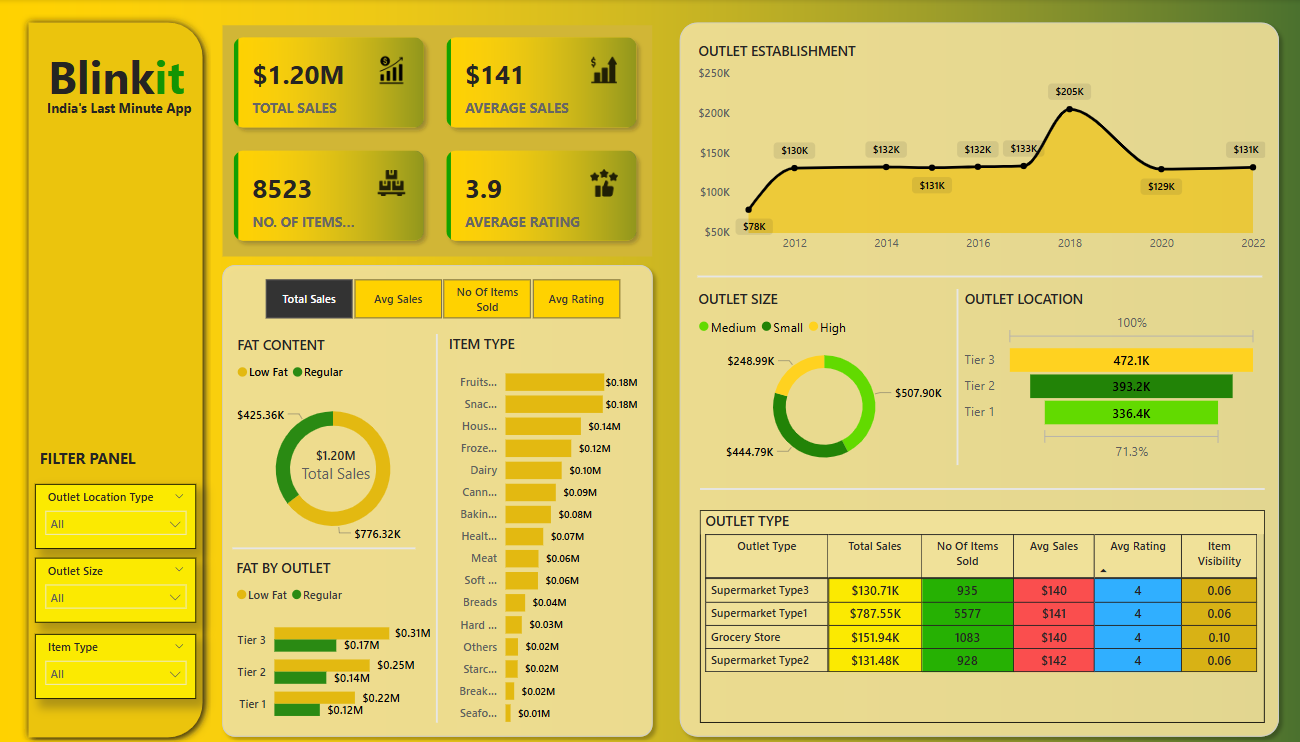

Layout of this report page (visuals, bound fields, positions):
{"tool":"powerbi","page":{"name":"Page 1","canvas":[1400,800],"ordinal":0},"visuals":[{"type":"shape","box":[229.2,276.1,479.9,524.1],"z":0},{"type":"shape","box":[21.6,15.4,205.1,784.8],"z":1000},{"type":"clusteredBarChart","title":"FAT BY OUTLET","fields":{"Y":["BlinkIT Grocery Data.Total Sales"],"Category":["BlinkIT Grocery Data.Outlet Location Type"],"Series":["BlinkIT Grocery Data.Item Fat Content"]},"box":[249.3,599.2,221.2,190.3],"z":2000},{"type":"slicer","fields":{"Values":["Metrics.Metrics"]},"box":[258.7,293.6,430.3,53.6],"z":3000},{"type":"donutChart","title":"FAT CONTENT","fields":{"Y":["BlinkIT Grocery Data.Total Sales"],"Category":["BlinkIT Grocery Data.Item Fat Content"]},"box":[249.3,360.6,213.1,238.6],"z":4000},{"type":"cardVisual","fields":{"Data":["BlinkIT Grocery Data.Total Sales","BlinkIT Grocery Data.Avg Sales","BlinkIT Grocery Data.No Of Items Sold","BlinkIT Grocery Data.Avg Rating"]},"box":[239,28,461,248],"z":5000},{"type":"cardVisual","fields":{"Data":["BlinkIT Grocery Data.Total Sales"]},"box":[305.6,461.1,109.9,76.4],"z":6000},{"type":"textbox","box":[40.2,101.9,175.6,40.2],"z":7000},{"type":"textbox","box":[0,45.6,249.3,76.4],"z":8000},{"type":"shape","box":[249.3,579.1,197.1,20.1],"z":9000},{"type":"shape","box":[462.5,359.3,12.1,416.9],"z":10000},{"type":"barChart","title":"ITEM TYPE","fields":{"Y":["BlinkIT Grocery Data.Total Sales"],"Category":["BlinkIT Grocery Data.Item Type"]},"box":[481.2,359.3,207.8,430.3],"z":11000},{"type":"shape","box":[719.8,16.1,660.9,784.2],"z":12000},{"type":"lineChart","title":"OUTLET ESTABLISHMENT","fields":{"Category":["BlinkIT Grocery Data.Outlet Establishment Year"],"Y":["BlinkIT Grocery Data.Total Sales"]},"box":[744,45.6,618,234.6],"z":13000},{"type":"shape","box":[748,284.2,605.9,26.8],"z":14000},{"type":"donutChart","title":"OUTLET SIZE","fields":{"Y":["BlinkIT Grocery Data.Total Sales"],"Category":["BlinkIT Grocery Data.Outlet Size"]},"box":[744,311,280.2,202.4],"z":15000},{"type":"shape","box":[1024.1,311,5.4,189],"z":16000},{"type":"funnel","title":"OUTLET LOCATION","fields":{"Y":["Sum(BlinkIT Grocery Data.Sales)"],"Category":["BlinkIT Grocery Data.Outlet Location Type"]},"box":[1029.5,311,324.4,189],"z":17000},{"type":"shape","box":[750.7,512.1,605.9,26.8],"z":18000},{"type":"pivotTable","title":"OUTLET TYPE","fields":{"Rows":["BlinkIT Grocery Data.Outlet Type"],"Values":["BlinkIT Grocery Data.Total Sales","BlinkIT Grocery Data.No Of Items Sold","BlinkIT Grocery Data.Avg Sales","BlinkIT Grocery Data.Avg Rating","Avg(BlinkIT Grocery Data.Item Visibility)"]},"box":[750.7,548.3,605.9,227.9],"z":19000},{"type":"slicer","fields":{"Values":["BlinkIT Grocery Data.Outlet Location Type"]},"box":[37.5,520.1,172.9,69.7],"z":20000},{"type":"slicer","fields":{"Values":["BlinkIT Grocery Data.Outlet Size"]},"box":[37.5,599.2,172.9,69.7],"z":21000},{"type":"slicer","fields":{"Values":["BlinkIT Grocery Data.Item Type"]},"box":[37.5,681,172.9,69.7],"z":22000},{"type":"textbox","box":[37.5,475.9,158.2,36.2],"z":23000}]}

Visuals, with their boxes in screenshot pixels (x1, y1, x2, y2), scaled from the page's 1400x800 canvas onto the 1300x742 screenshot:
shape: 213:256:658:741
shape: 20:14:211:741
"FAT BY OUTLET" clusteredBarChart: 231:556:437:732
slicer - Metrics.Metrics: 240:272:640:322
"FAT CONTENT" donutChart: 231:334:429:556
cardVisual - BlinkIT Grocery Data.Total Sales x BlinkIT Grocery Data.Avg Sales: 222:26:650:256
cardVisual - BlinkIT Grocery Data.Total Sales: 284:428:386:499
textbox: 37:95:200:132
textbox: 0:42:231:113
shape: 231:537:415:556
shape: 429:333:441:720
"ITEM TYPE" barChart: 447:333:640:732
shape: 668:15:1282:741
"OUTLET ESTABLISHMENT" lineChart: 691:42:1265:260
shape: 695:264:1257:288
"OUTLET SIZE" donutChart: 691:288:951:476
shape: 951:288:956:464
"OUTLET LOCATION" funnel: 956:288:1257:464
shape: 697:475:1260:500
"OUTLET TYPE" pivotTable: 697:509:1260:720
slicer - BlinkIT Grocery Data.Outlet Location Type: 35:482:195:547
slicer - BlinkIT Grocery Data.Outlet Size: 35:556:195:620
slicer - BlinkIT Grocery Data.Item Type: 35:632:195:696
textbox: 35:441:182:475
